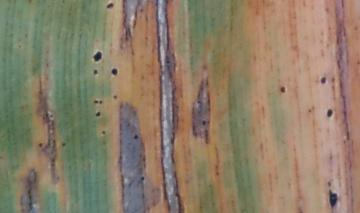tarspot: (328, 190, 338, 210), (91, 51, 103, 63), (324, 106, 333, 118), (319, 76, 327, 85), (111, 66, 118, 76), (59, 140, 67, 148), (105, 3, 114, 10), (94, 109, 101, 118), (91, 68, 99, 75), (111, 93, 118, 101), (91, 98, 99, 105), (100, 128, 107, 136), (132, 132, 139, 140), (200, 117, 207, 125), (279, 86, 286, 94), (37, 141, 43, 148), (98, 98, 103, 105), (140, 175, 145, 181)
